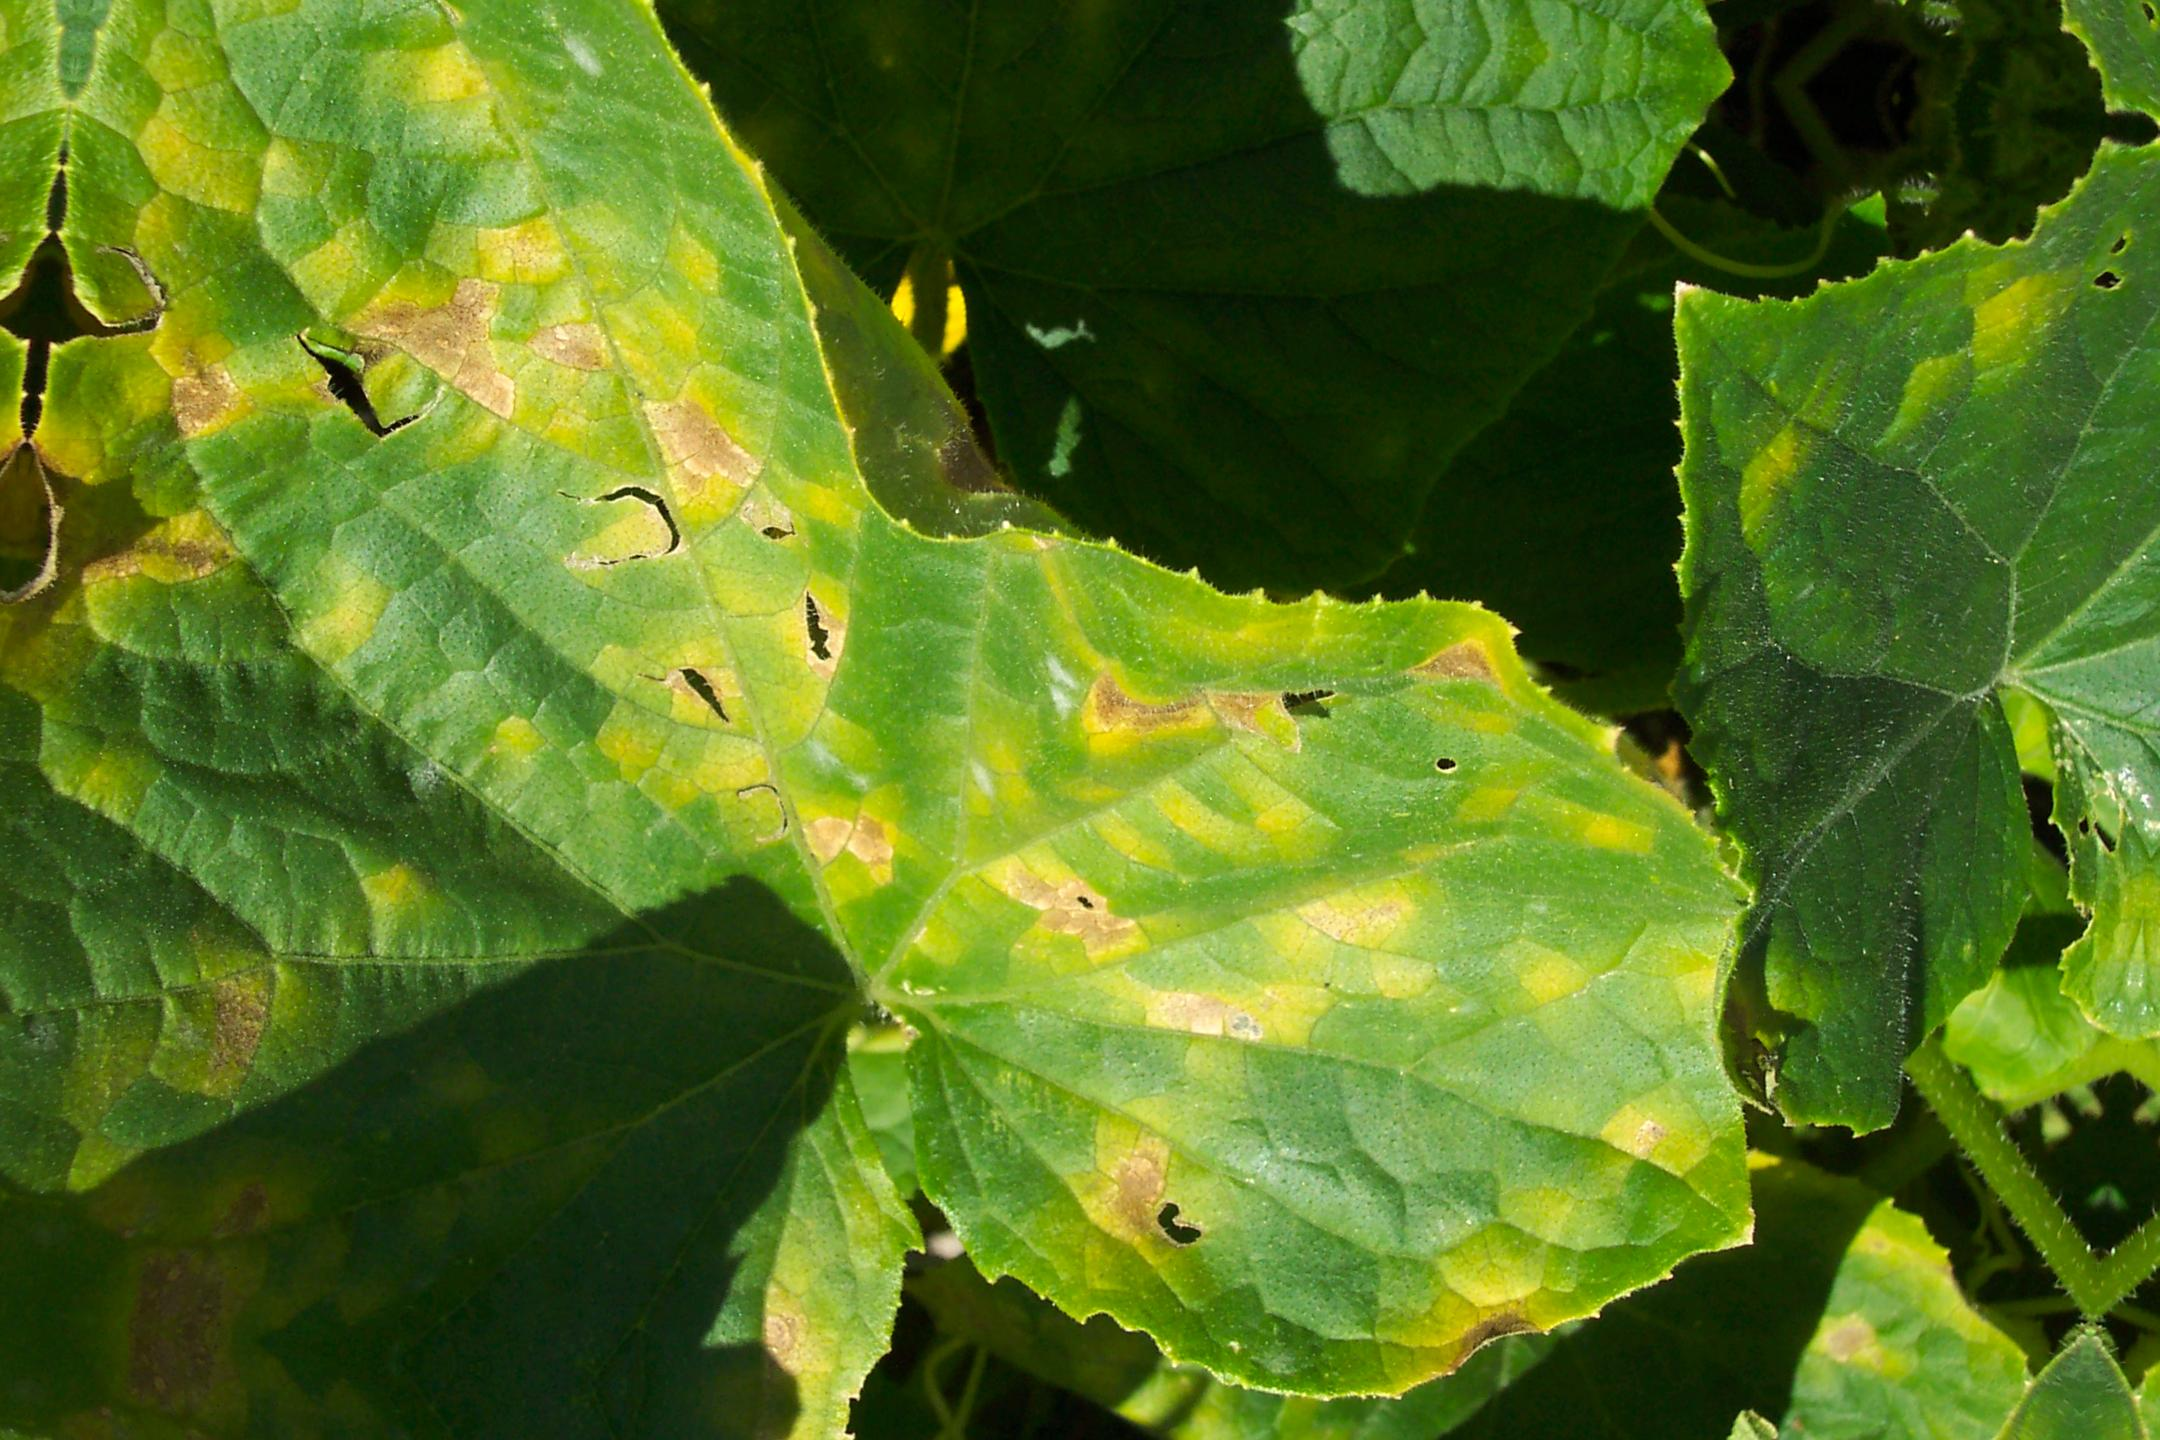Tomato mold leaf: (0, 0, 1945, 1440)
